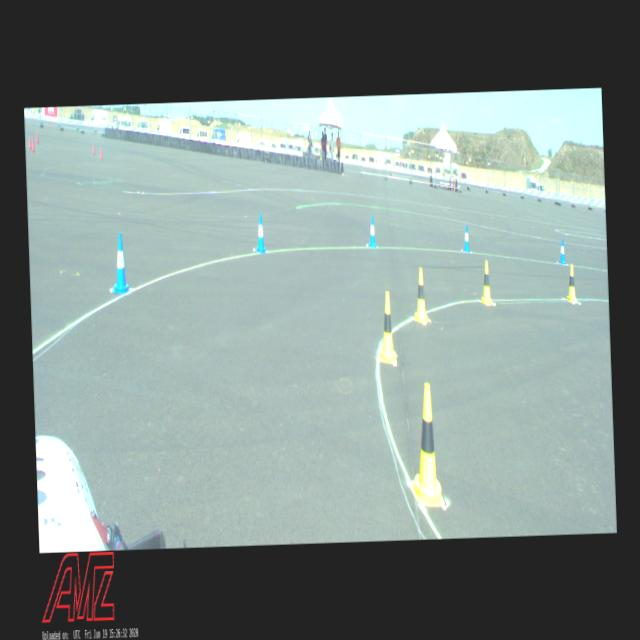blue_cone: (110, 232, 130, 296), (254, 214, 266, 254), (366, 215, 376, 248), (462, 224, 470, 253), (558, 238, 566, 264)
yellow_cone: (408, 383, 444, 509), (377, 291, 396, 364), (412, 268, 428, 325), (479, 260, 494, 306), (565, 264, 578, 304)
